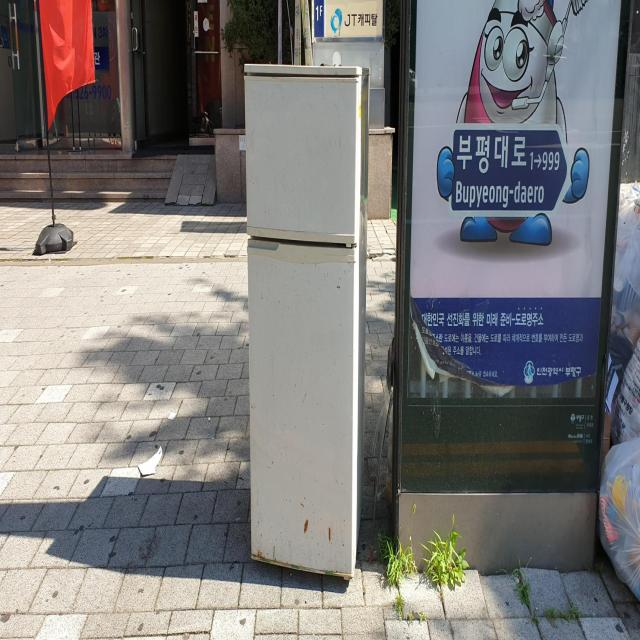refrigerator: (240, 55, 373, 587)
